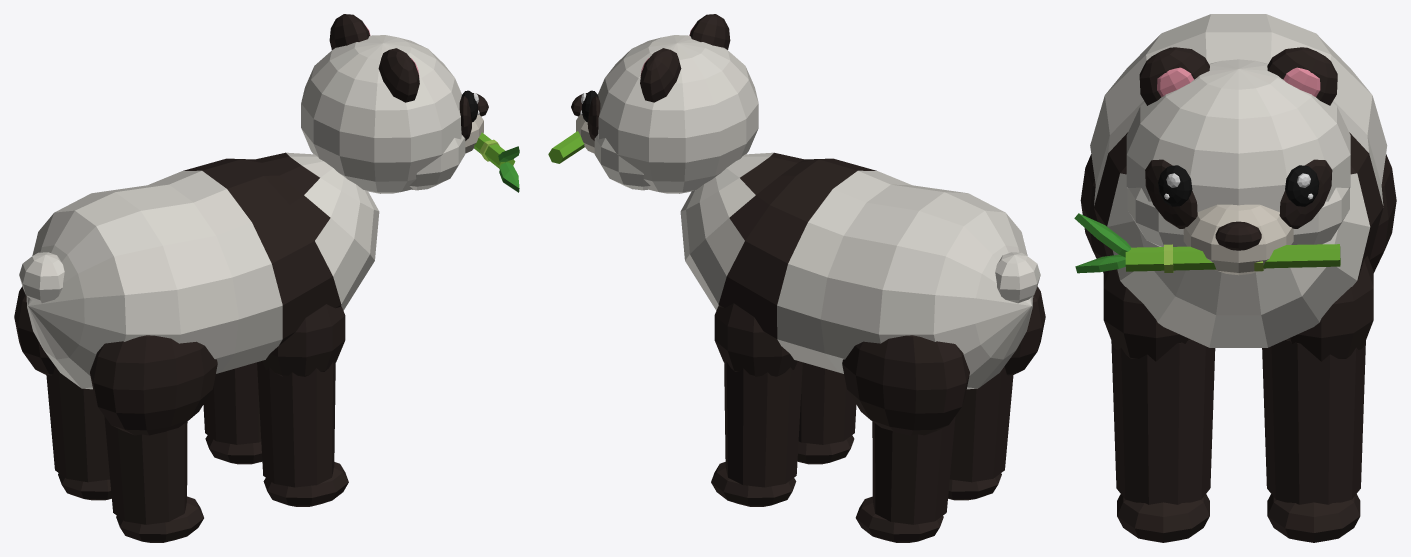
The model's file is panda.glb.
3 renders of one model, left to right at view 1: azimuth 30°, elevation 25°; view 2: azimuth 150°, elevation 25°; view 3: azimuth 270°, elevation 25°, orthographic. The views are drawn at different scales.
Visible parts, largest first — view 1: body, head, leg_br, leg_fr, leg_bl, leg_fl; view 2: body, head, leg_bl, leg_fl, leg_br, leg_fr; view 3: head, body, leg_fl, leg_fr, leg_bl, leg_br.
Part boxes in pixels (bbox=[...]): body: bbox=[19, 152, 379, 389]; head: bbox=[301, 14, 519, 193]; leg_br: bbox=[90, 335, 217, 542]; leg_fr: bbox=[257, 304, 348, 506]; leg_bl: bbox=[14, 286, 111, 500]; leg_fl: bbox=[203, 362, 262, 464]; body: bbox=[680, 152, 1040, 389]; head: bbox=[548, 14, 758, 193]; leg_bl: bbox=[842, 335, 969, 542]; leg_fl: bbox=[711, 303, 802, 506]; leg_br: bbox=[948, 286, 1045, 500]; leg_fr: bbox=[797, 362, 856, 464]; head: bbox=[1074, 47, 1350, 275]; body: bbox=[1090, 14, 1387, 347]; leg_fl: bbox=[1262, 256, 1373, 542]; leg_fr: bbox=[1103, 269, 1215, 542]; leg_bl: bbox=[1369, 154, 1396, 272]; leg_br: bbox=[1080, 154, 1106, 272].
Bounding box in the file's own units: 1.84 × 1.6 × 0.857.
